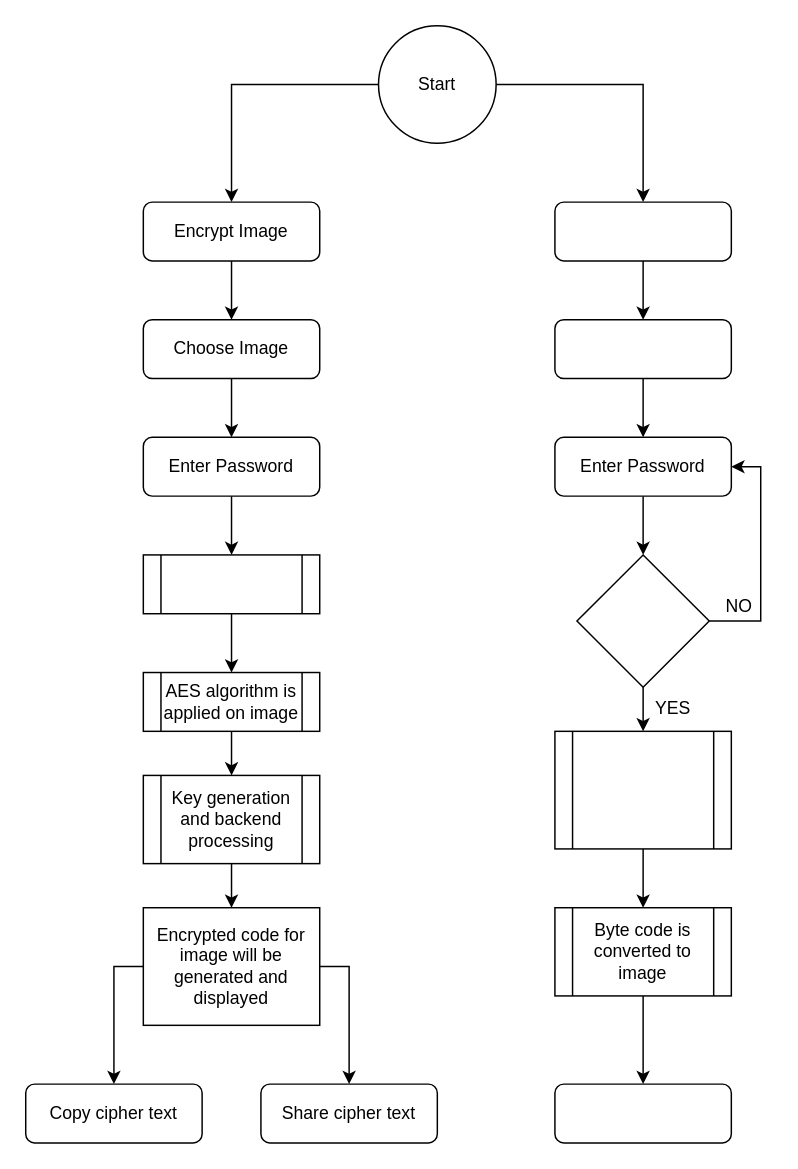
The diagram is 798 pixels wide and 1169 high, and some of its shapes have lost their labels. The centre of each missing label's shape, as x and y in pixels:
"AES decryption algorithm is applied to the input text" goes at point 642,789.
"Decrypt Image" goes at point 642,231.
"Download" goes at point 642,1113.
"Enter Cipher Text" goes at point 642,348.
"If password is correct" goes at point 642,620.
"Image converted to byte code" goes at point 231,583.
